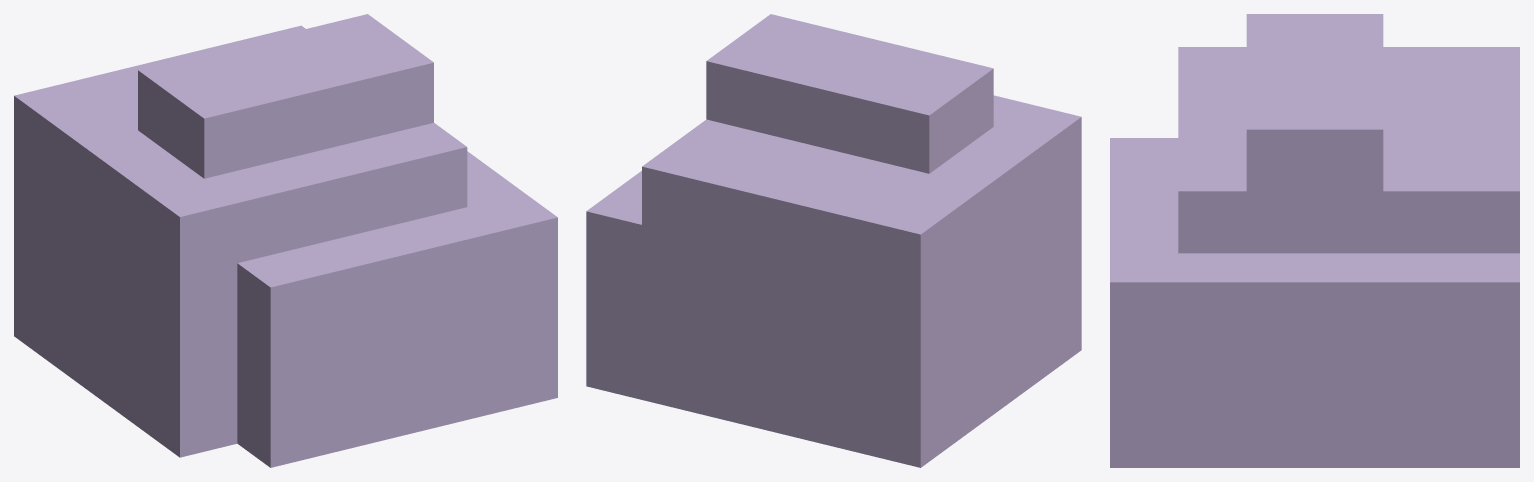
File: Rock01.fbx
The picture shows the model from 3 angles, left to right: view 1: azimuth 30°, elevation 25°; view 2: azimuth 150°, elevation 25°; view 3: azimuth 270°, elevation 25°; orthographic projection. The views are drawn at different scales.
Parts seen in each view (by area): view 1: rock_aus; view 2: rock_aus; view 3: rock_aus.
Boxes of the visible parts, x1,y1,x2,y2 form: rock_aus: (14,14,557,467); rock_aus: (586,14,1081,467); rock_aus: (1110,14,1519,467).
Bounding box in the file's own units: 75 × 62.5 × 75.
